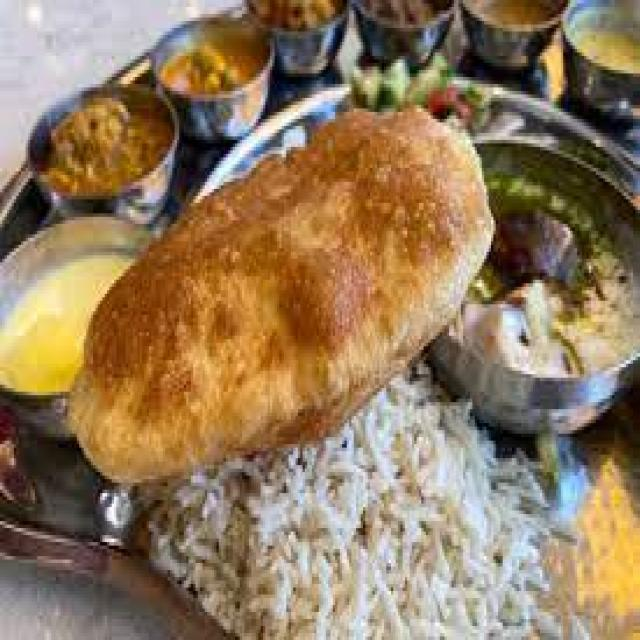dal: (481, 146, 634, 397), (3, 235, 128, 402)
sweet: (478, 135, 633, 387)
veg-fry: (160, 8, 276, 123)
